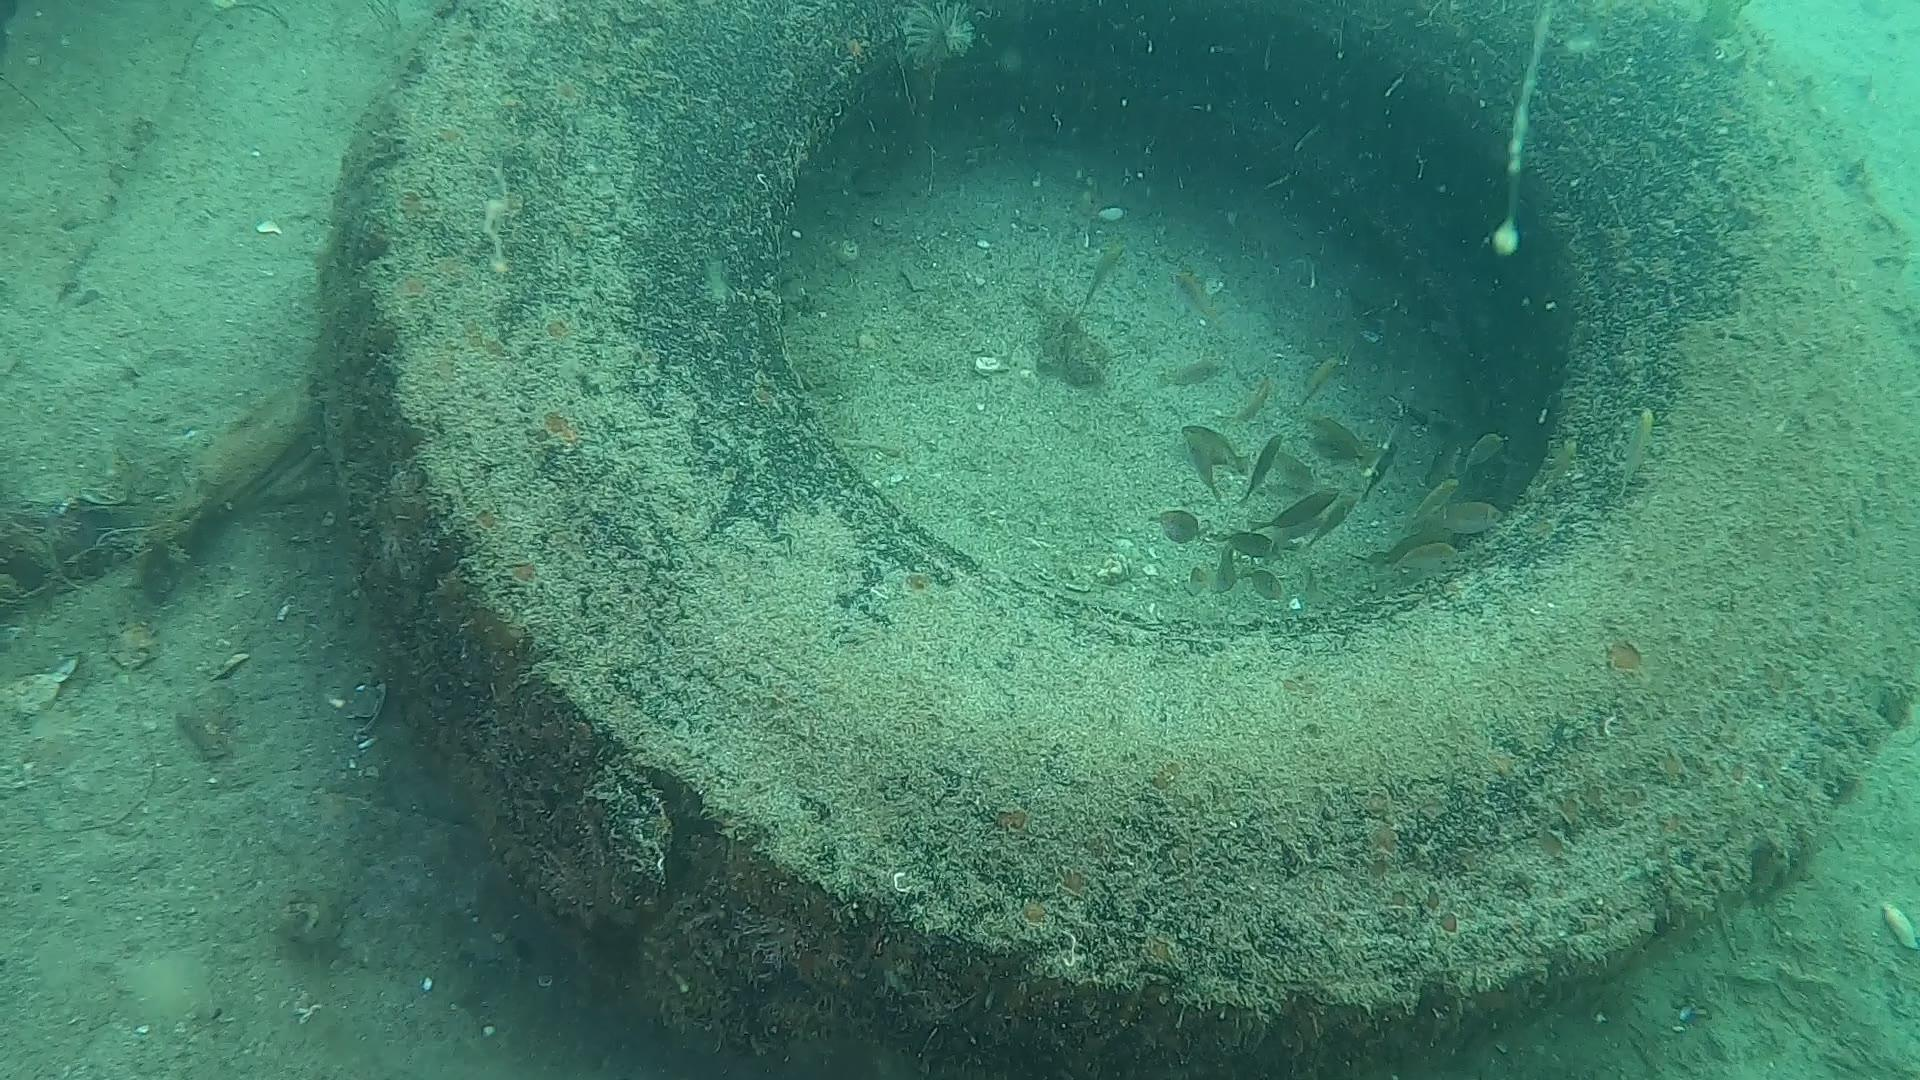tire: (306, 3, 1920, 1077)
